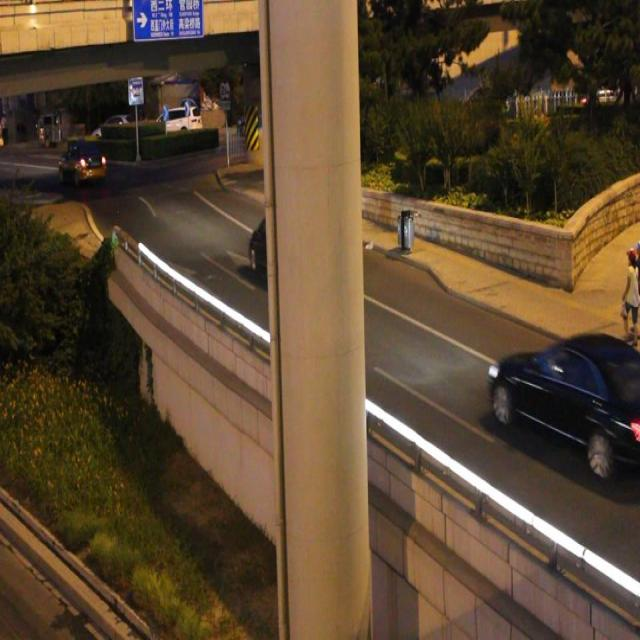car: (486, 331, 640, 477), (248, 208, 332, 298)
